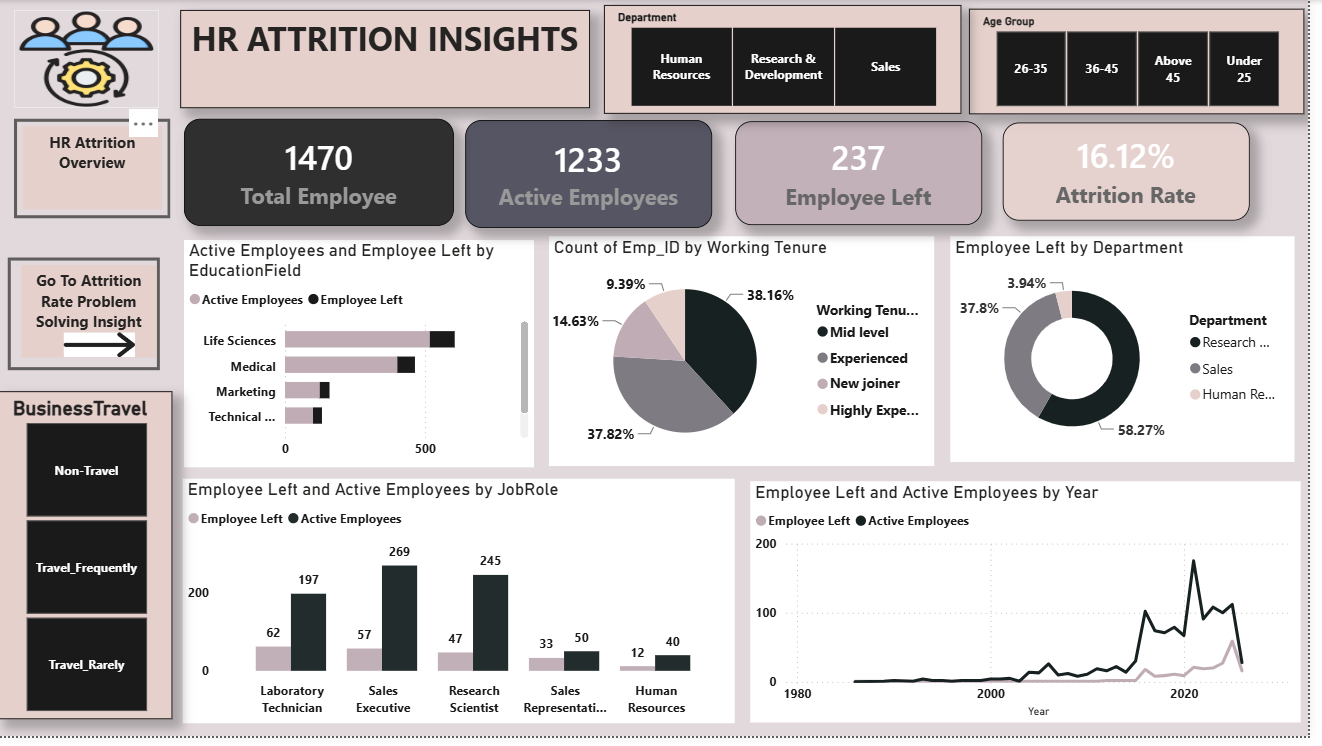

The page's visual inventory and layout, read from the dashboard file:
{"tool":"powerbi","page":{"name":"HR Attrition overview","canvas":[1280,720],"ordinal":0},"visuals":[{"type":"donutChart","fields":{"Category":["HR_Project_Power BI (3).Department","HR_Project_Power BI (3).JobRole"],"Y":["HR_Project_Power BI (3).Employee Left"]},"box":[930.6,230.5,336.5,220.5],"z":0},{"type":"pieChart","fields":{"Category":["HR_Project_Power BI (3).Working Tenure"],"Y":["CountNonNull(HR_Project_Power BI (3).Emp_ID)"]},"box":[538.3,231.7,376.6,225.1],"z":1000},{"type":"slicer","fields":{"Values":["HR_Project_Power BI (3).Age Group"]},"box":[949.3,8.6,327.9,103.1],"z":2000},{"type":"lineChart","fields":{"Category":["Dim_date.Year"],"Y":["HR_Project_Power BI (3).Employee Left","HR_Project_Power BI (3).Active Employees"]},"box":[734.5,471.1,538.1,236.2],"z":3000},{"type":"clusteredColumnChart","fields":{"Category":["HR_Project_Power BI (3).JobRole"],"Y":["HR_Project_Power BI (3).Employee Left","HR_Project_Power BI (3).Active Employees"]},"box":[180.1,468.2,539.8,239.1],"z":4000},{"type":"barChart","fields":{"Category":["HR_Project_Power BI (3).EducationField"],"Y":["HR_Project_Power BI (3).Active Employees","HR_Project_Power BI (3).Employee Left"]},"box":[180.4,235.4,342.2,222.8],"z":5000},{"type":"cardVisual","fields":{"Data":["HR_Project_Power BI (3).Employee Left"]},"box":[720.2,118.8,242,101.4],"z":6000},{"type":"cardVisual","fields":{"Data":["HR_Project_Power BI (3).Active Employees"]},"box":[455.6,117.4,242,106],"z":7000},{"type":"cardVisual","fields":{"Data":["HR_Project_Power BI (3).Total Employee"]},"box":[181.2,115.9,264.1,105.2],"z":8000},{"type":"cardVisual","fields":{"Data":["HR_Project_Power BI (3).Attrition Rate"]},"box":[982.2,120.3,242,95.6],"z":9000},{"type":"textbox","box":[177.8,10,400.6,95.9],"z":10000},{"type":"slicer","fields":{"Values":["HR_Project_Power BI (3).Department"]},"box":[591.3,4.3,349.4,106.2],"z":11000},{"type":"actionButton","box":[14.9,115.7,153.2,97.4],"z":12000},{"type":"textbox","box":[22.9,123.4,136,81.3],"z":13000},{"type":"actionButton","box":[8.6,252,148.9,110.2],"z":14000},{"type":"textbox","box":[21.8,258.9,131.7,90.2],"z":15000},{"type":"image","box":[54.1,325.9,88.8,24.3],"z":16000},{"type":"image","box":[14.3,9.7,141.7,95.9],"z":17000},{"type":"slicer","fields":{"Values":["HR_Project_Power BI (3).BusinessTravel"]},"box":[0,382.3,169.2,320.7],"z":18000}]}

Visuals, with their boxes in screenshot pixels (x1, y1, x2, y2), scaled from the page's 1280x720 canvas onto the 1322x746 screenshot:
donutChart - HR_Project_Power BI (3).Department x HR_Project_Power BI (3).JobRole: <region>961, 239, 1309, 467</region>
pieChart - HR_Project_Power BI (3).Working Tenure x CountNonNull(HR_Project_Power BI (3).Emp_ID): <region>556, 240, 945, 473</region>
slicer - HR_Project_Power BI (3).Age Group: <region>980, 9, 1319, 116</region>
lineChart - Dim_date.Year x HR_Project_Power BI (3).Employee Left: <region>759, 488, 1314, 733</region>
clusteredColumnChart - HR_Project_Power BI (3).JobRole x HR_Project_Power BI (3).Employee Left: <region>186, 485, 744, 733</region>
barChart - HR_Project_Power BI (3).EducationField x HR_Project_Power BI (3).Active Employees: <region>186, 244, 540, 475</region>
cardVisual - HR_Project_Power BI (3).Employee Left: <region>744, 123, 994, 228</region>
cardVisual - HR_Project_Power BI (3).Active Employees: <region>471, 122, 720, 231</region>
cardVisual - HR_Project_Power BI (3).Total Employee: <region>187, 120, 460, 229</region>
cardVisual - HR_Project_Power BI (3).Attrition Rate: <region>1014, 125, 1264, 224</region>
textbox: <region>184, 10, 597, 110</region>
slicer - HR_Project_Power BI (3).Department: <region>611, 4, 972, 114</region>
actionButton: <region>15, 120, 174, 221</region>
textbox: <region>24, 128, 164, 212</region>
actionButton: <region>9, 261, 163, 375</region>
textbox: <region>23, 268, 159, 362</region>
image: <region>56, 338, 148, 363</region>
image: <region>15, 10, 161, 109</region>
slicer - HR_Project_Power BI (3).BusinessTravel: <region>0, 396, 175, 728</region>
